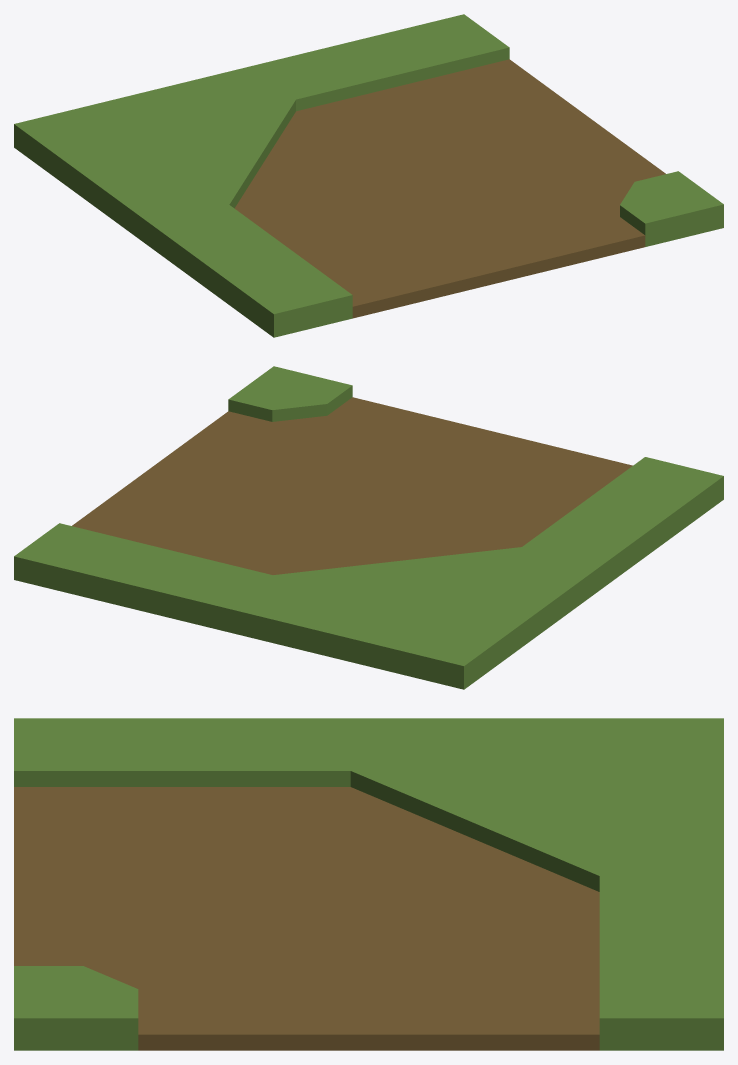
The model's file is road_right_turn.fbx.
The picture shows the model from 3 angles, top to bottom: view 1: azimuth 30°, elevation 25°; view 2: azimuth 150°, elevation 25°; view 3: azimuth 270°, elevation 25°; orthographic projection. The views are drawn at different scales.
Parts seen in each view (by area): view 1: Cube.008; view 2: Cube.008; view 3: Cube.008.
Boxes of the visible parts, bbox=[...] form: Cube.008: bbox=[14, 14, 723, 337]; Cube.008: bbox=[14, 366, 723, 689]; Cube.008: bbox=[14, 718, 723, 1050].
Bounding box in the file's own units: 200 × 10 × 200.
